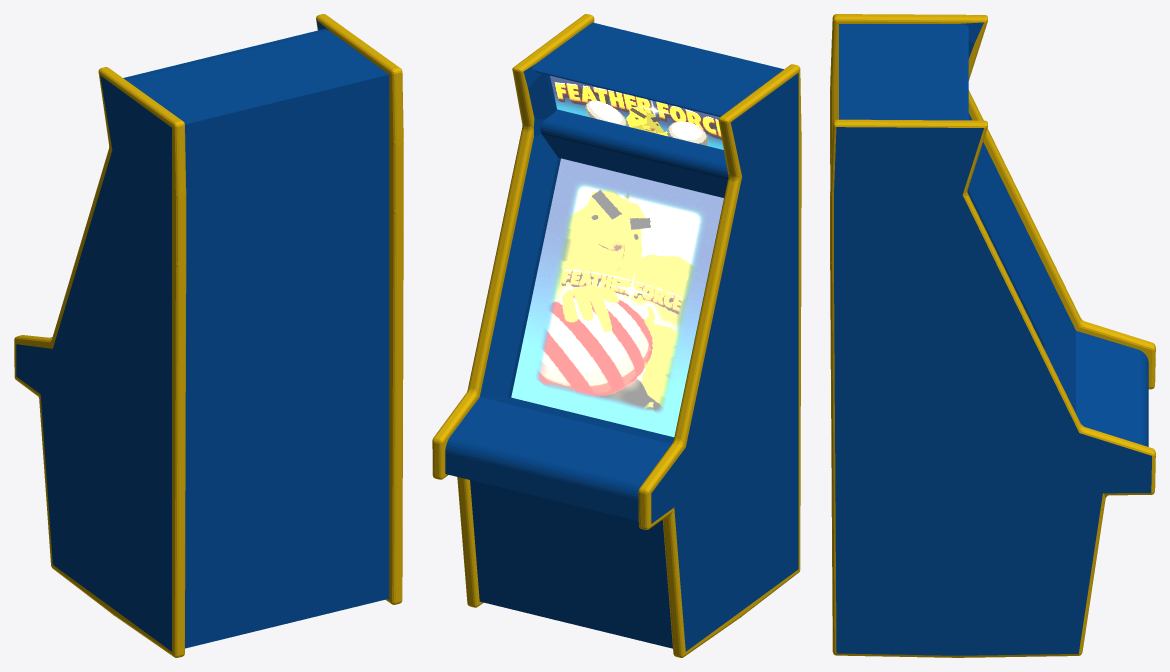
The model's file is arcadeCabinet5.fbx.
3 views of the same model, side by side, from view 1: azimuth 30°, elevation 25°; view 2: azimuth 150°, elevation 25°; view 3: azimuth 270°, elevation 25° (orthographic). The views are drawn at different scales.
Parts seen in each view (by area): view 1: Cabinet.005; view 2: Cabinet.005; view 3: Cabinet.005.
Boxes of the visible parts, x1,y1,x2,y2 form: Cabinet.005: (14,14,403,657); Cabinet.005: (432,14,801,657); Cabinet.005: (830,14,1155,657).
Size of the model in its own units: 109 by 244 by 135.
